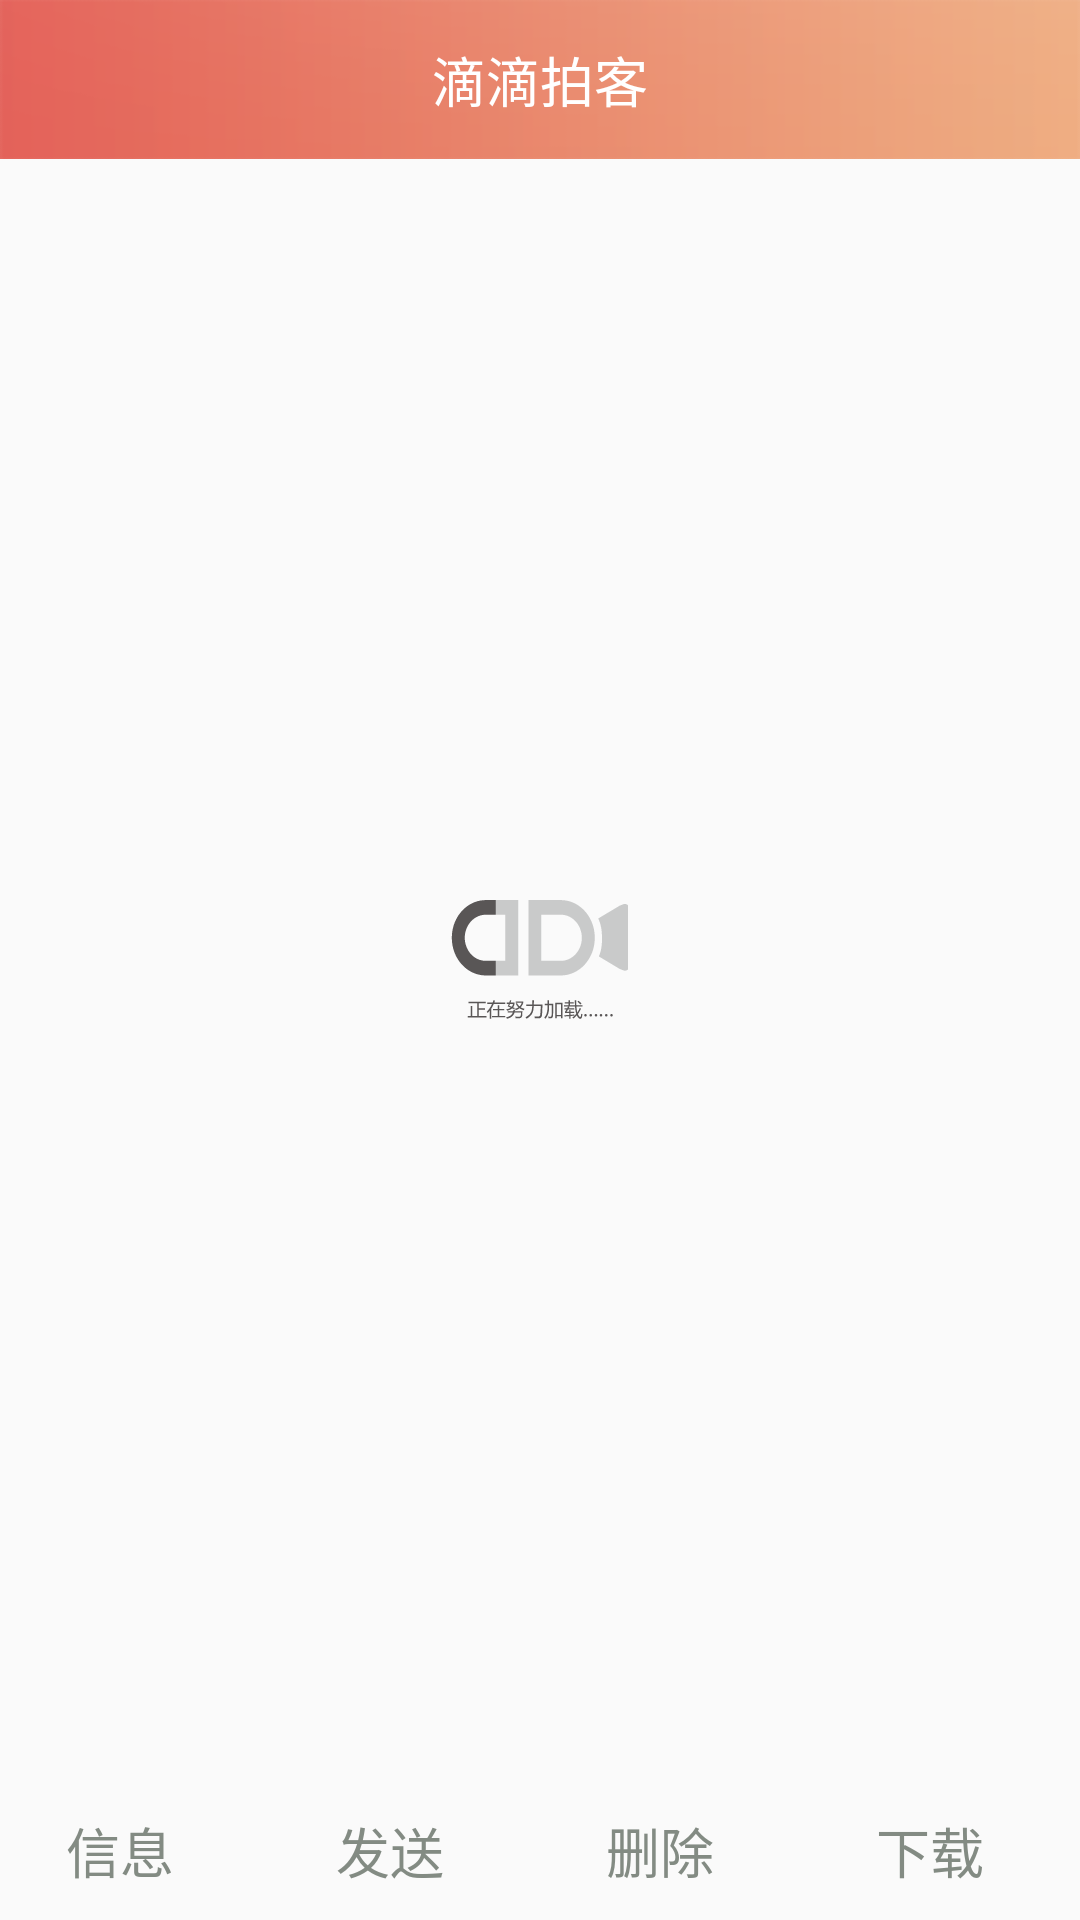

Where to tap for icons on this 1080px x 1920px app screen, as (x,y):
video thumb: (539,959)
